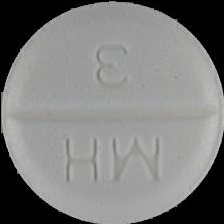0378-1903: (0, 0, 224, 224)
